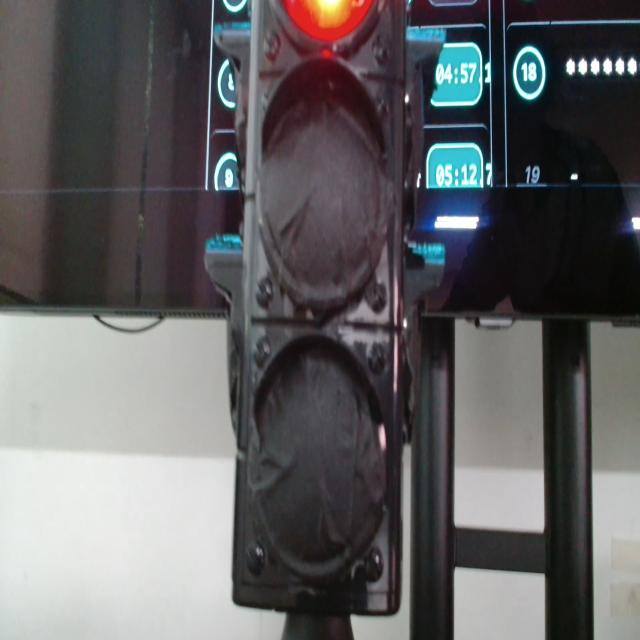red_light: (282, 0, 374, 42)
